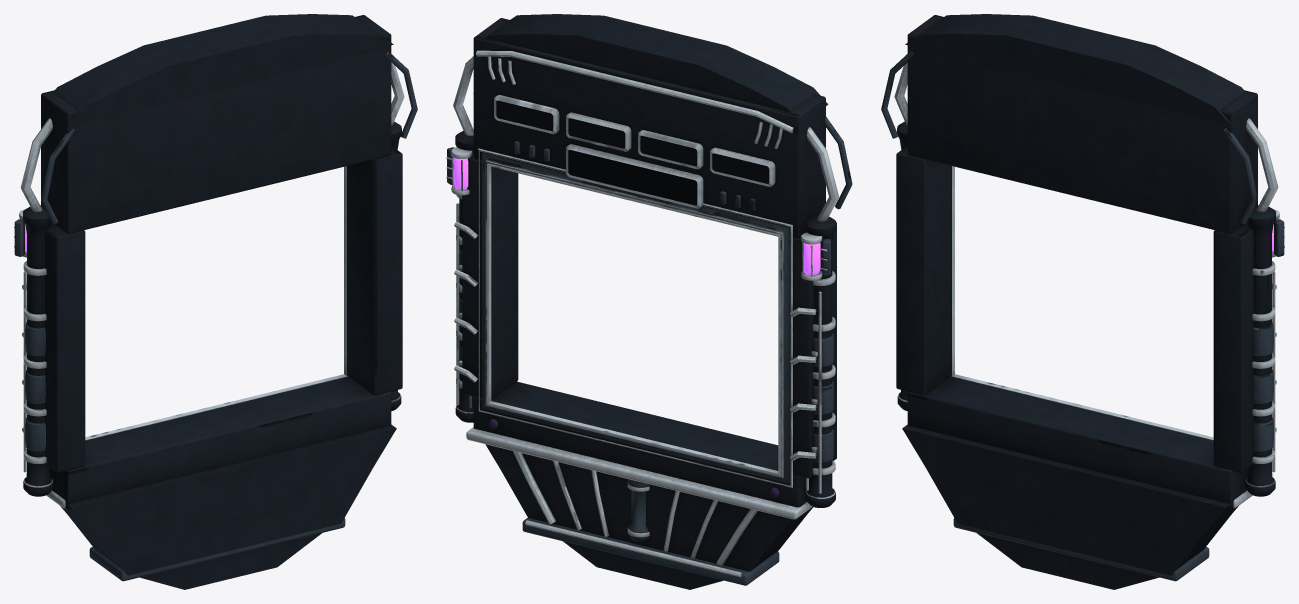
The picture shows the model from 3 angles, left to right: view 1: azimuth 30°, elevation 25°; view 2: azimuth 150°, elevation 25°; view 3: azimuth 330°, elevation 25°; orthographic projection.
Visible parts, largest first — view 1: Abyss_black_titanium, Pressure_joint_graphite, Pressure_rib_platinum; view 2: Abyss_black_titanium, Pressure_rib_platinum, Pressure_joint_graphite, Display_uniform_dark, Violet_capsule_glow; view 3: Abyss_black_titanium, Pressure_joint_graphite, Pressure_rib_platinum.
Boxes of the visible parts, bbox=[...] form: Abyss_black_titanium: bbox=[23, 14, 402, 589]; Pressure_joint_graphite: bbox=[14, 51, 417, 581]; Pressure_rib_platinum: bbox=[14, 62, 404, 508]; Abyss_black_titanium: bbox=[455, 14, 836, 589]; Pressure_rib_platinum: bbox=[446, 50, 838, 577]; Pressure_joint_graphite: bbox=[447, 93, 852, 585]; Display_uniform_dark: bbox=[496, 100, 769, 205]; Violet_capsule_glow: bbox=[453, 157, 820, 275]; Abyss_black_titanium: bbox=[896, 14, 1275, 589]; Pressure_joint_graphite: bbox=[881, 51, 1284, 581]; Pressure_rib_platinum: bbox=[894, 62, 1284, 508].
Size of the model in its own units: 9.09 by 12 by 1.54.
6 materials, 5 textured.
